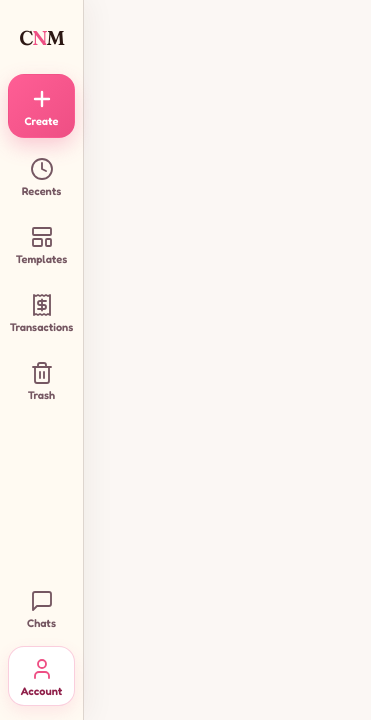
Scenario: ClientNavbar › opens an accessible account menu with profile link
What coordinates should you click on to do the following:
click the button "Account"
I would click on:
 (42, 676)
Its box is [8,646,75,706].
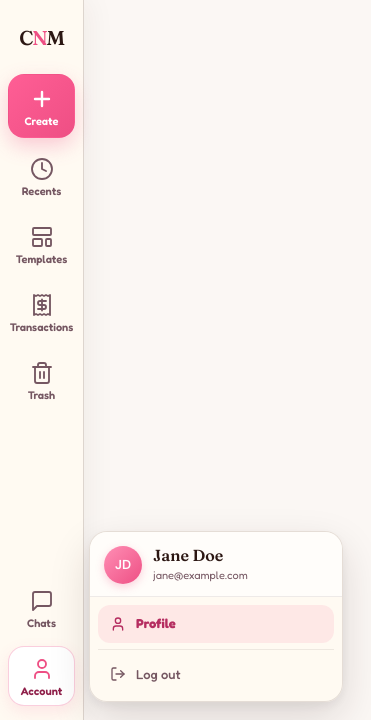
Now the text "Jane Doe" is shown, box [153,545,223,565]
Now the text "jane@example.com" is shown, box [153,568,248,582]
